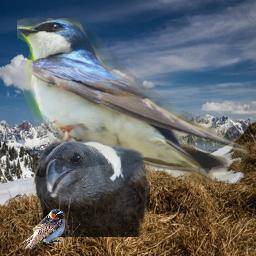Crow: (34, 140, 150, 237)
Swallow: (17, 18, 249, 191), (19, 209, 65, 250)
